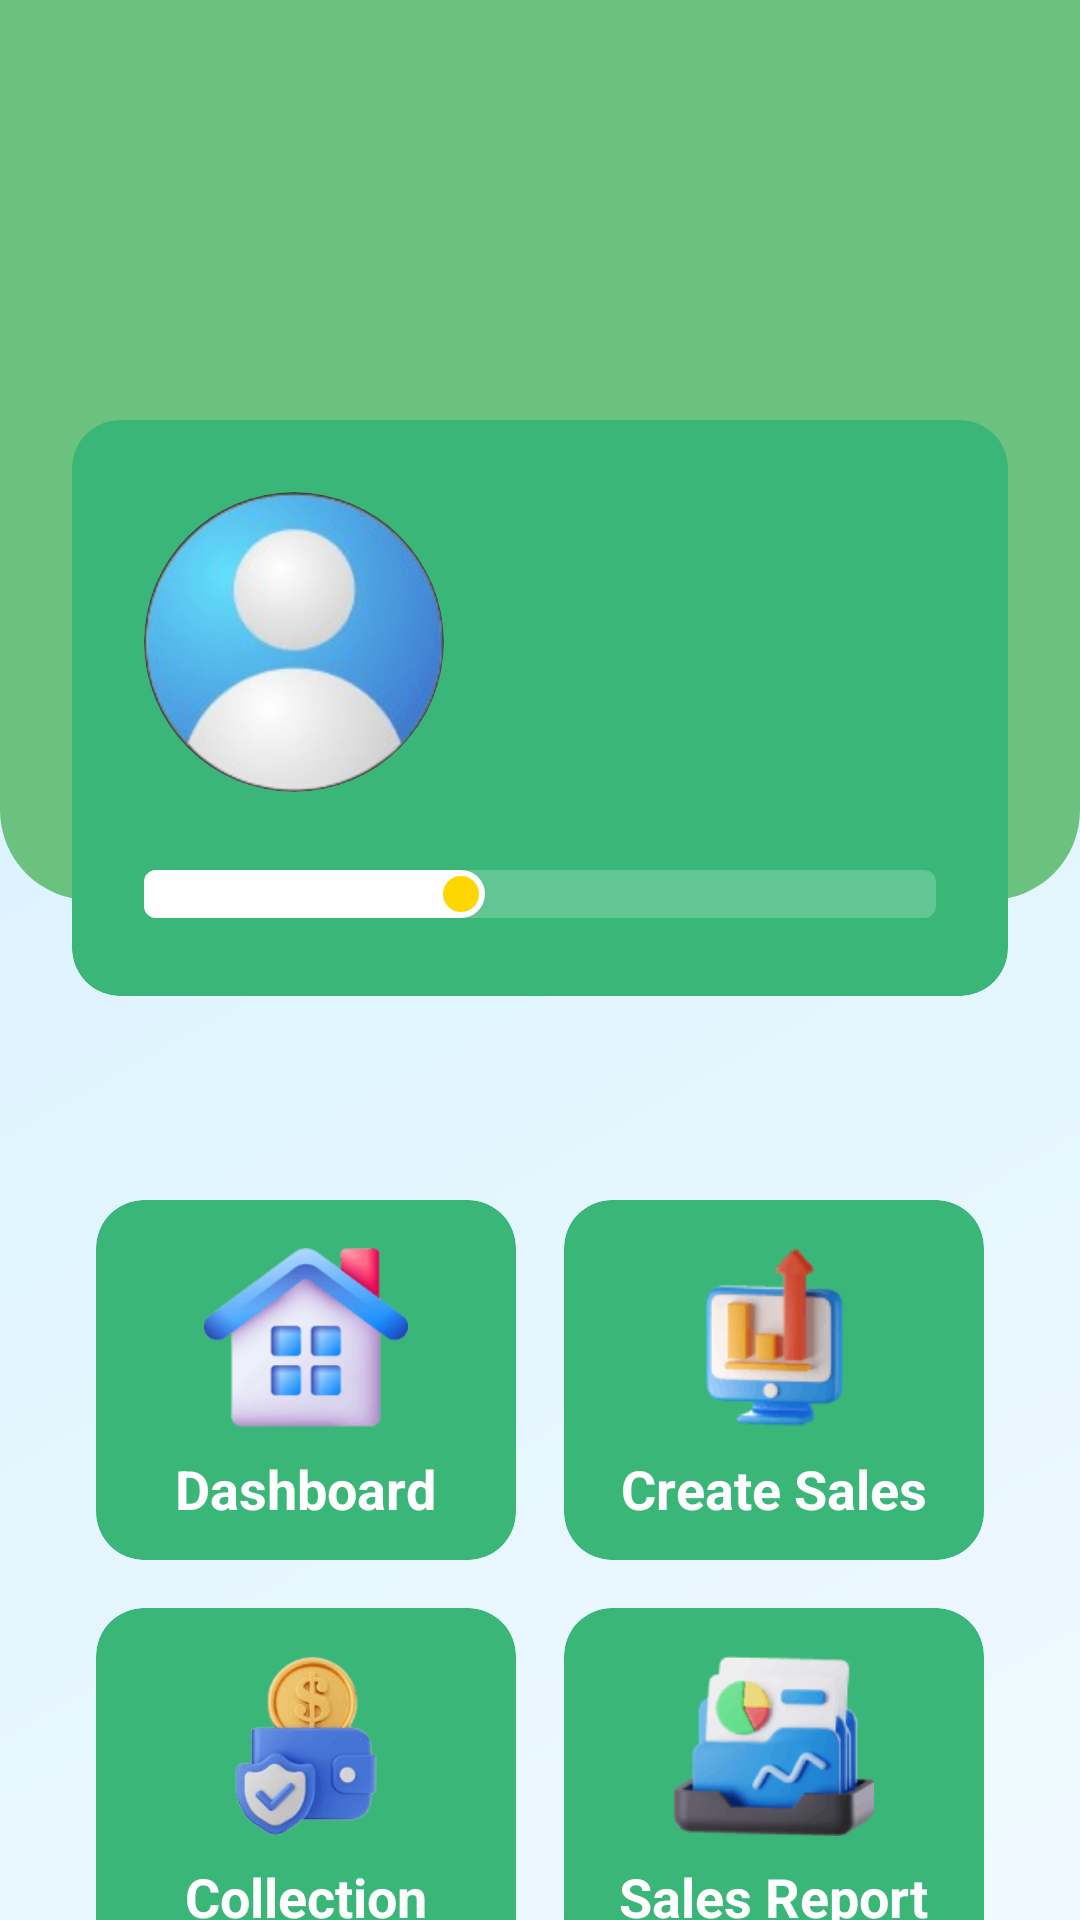

Icons on this 1080px x 1920px Android screen, each with the point to tap as point (x, y):
def user: point (294, 642)
home: point (306, 1337)
